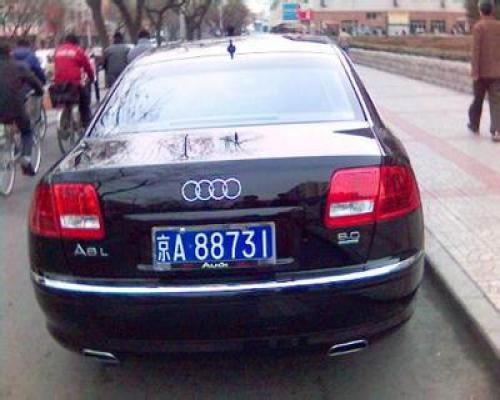Carplate: (146, 216, 282, 272)
